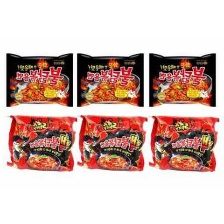snack: (146, 110, 224, 175), (2, 111, 82, 174), (144, 46, 221, 110), (0, 47, 78, 110), (73, 111, 151, 174), (74, 45, 149, 110)
